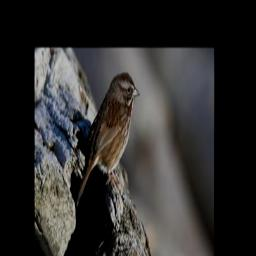Sparrow: (75, 71, 141, 209)
